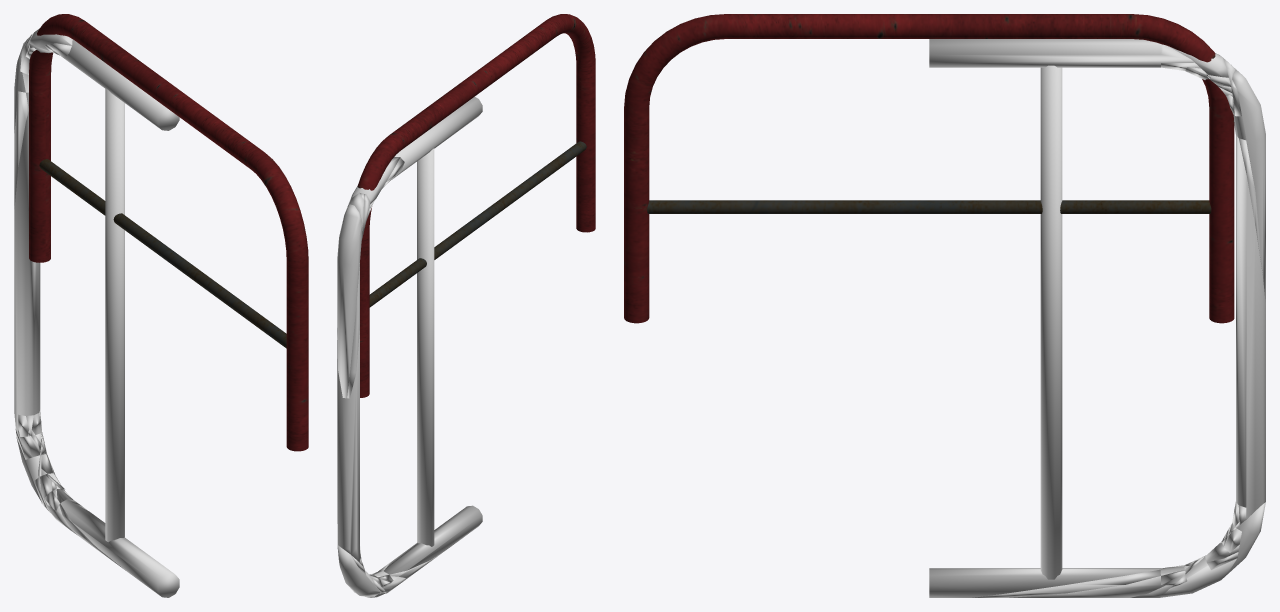
File: SM_Road_Barrier.fbx
3 renders of one model, left to right at view 1: azimuth 30°, elevation 25°; view 2: azimuth 150°, elevation 25°; view 3: azimuth 270°, elevation 25°, orthographic. The views are drawn at different scales.
Parts seen in each view (by area): view 1: SM_Road_Barrier_ConvexHulls, SM_Road_Barrier; view 2: SM_Road_Barrier_ConvexHulls, SM_Road_Barrier; view 3: SM_Road_Barrier_ConvexHulls, SM_Road_Barrier.
Part boxes in pixels (x1,y1,x2,y2): SM_Road_Barrier_ConvexHulls: (14,28,179,597); SM_Road_Barrier: (29,14,308,451); SM_Road_Barrier_ConvexHulls: (337,96,482,597); SM_Road_Barrier: (357,14,595,397); SM_Road_Barrier_ConvexHulls: (929,39,1265,597); SM_Road_Barrier: (624,14,1234,323).
Size of the model in its own units: 0.0822 by 1.79 by 1.79.
